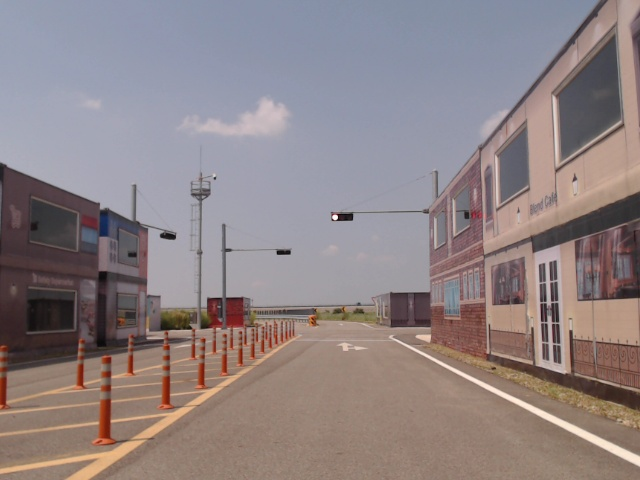red_3: (331, 214, 352, 220)
